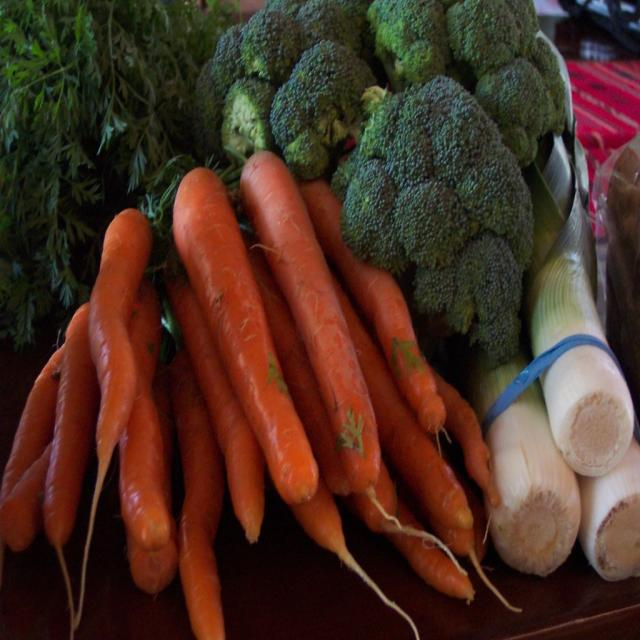Carrot: (171, 167, 322, 502)
